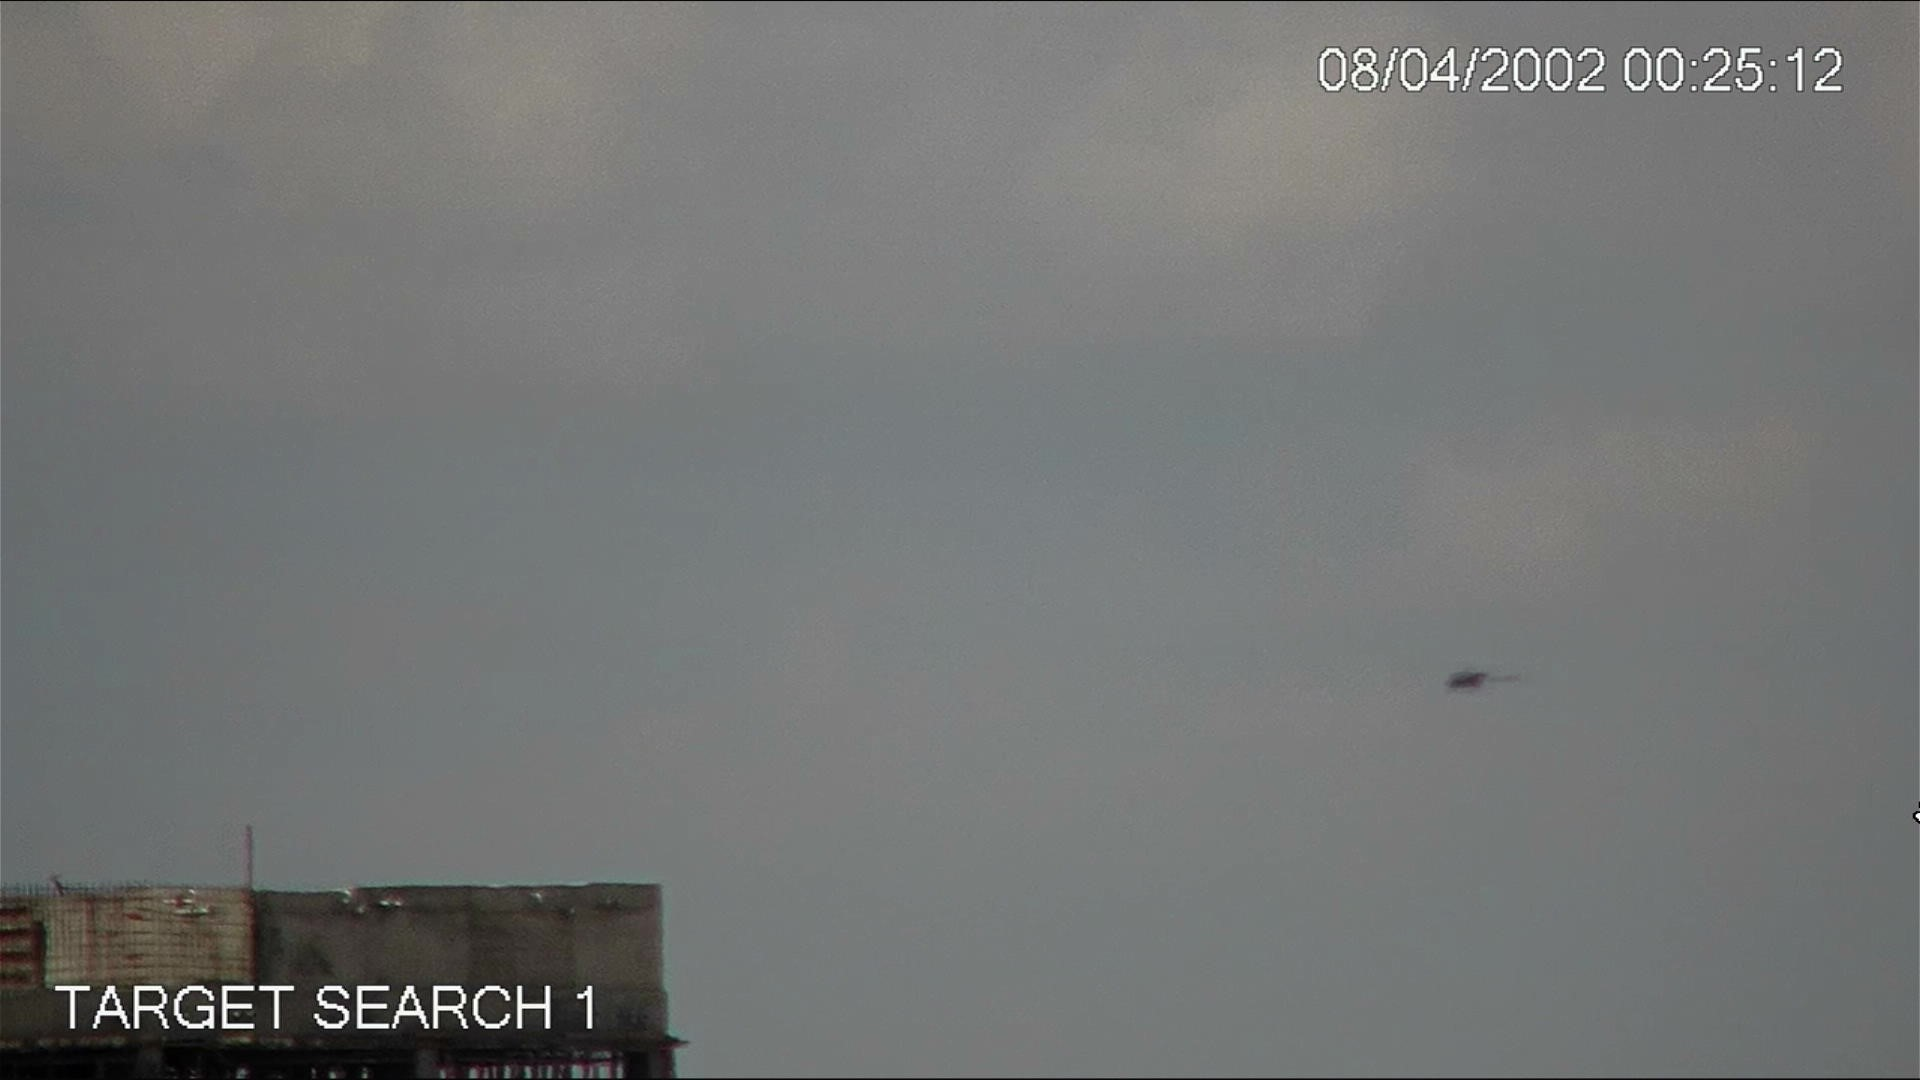SU_30: (1443, 658, 1524, 698)
